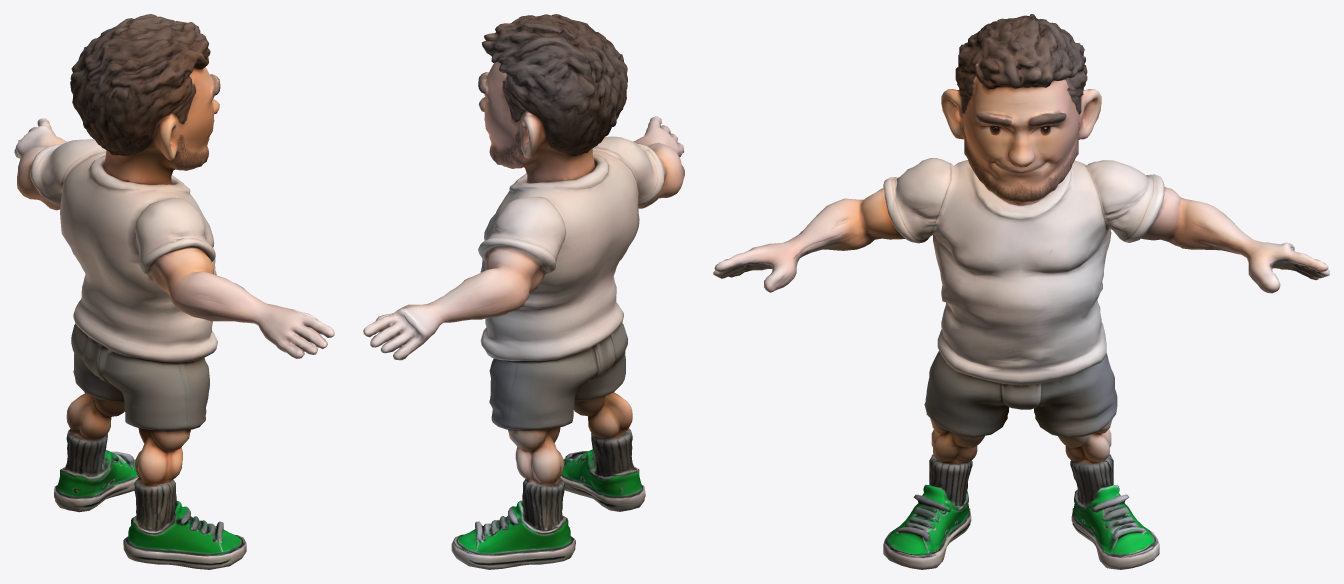
3 renders of one model, left to right at view 1: azimuth 30°, elevation 25°; view 2: azimuth 150°, elevation 25°; view 3: azimuth 270°, elevation 25°, orthographic. The views are drawn at different scales.
Parts seen in each view (by area): view 1: tripo_node_6789f149; view 2: tripo_node_6789f149; view 3: tripo_node_6789f149.
Part boxes in pixels (x1,y1,x2,y2): tripo_node_6789f149: (14, 14, 334, 569); tripo_node_6789f149: (363, 14, 684, 569); tripo_node_6789f149: (713, 14, 1329, 569).
Size of the model in its own units: 27.59 by 94.52 by 100.
1 material, 1 textured.
